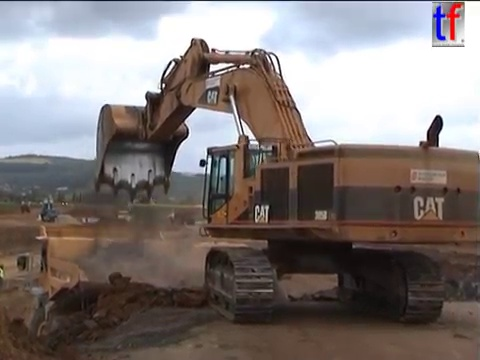excavator: (91, 34, 480, 326)
truck: (15, 223, 218, 347), (170, 239, 289, 303), (161, 207, 201, 227), (95, 207, 130, 225), (18, 199, 31, 214)
worker: (1, 262, 5, 294)
